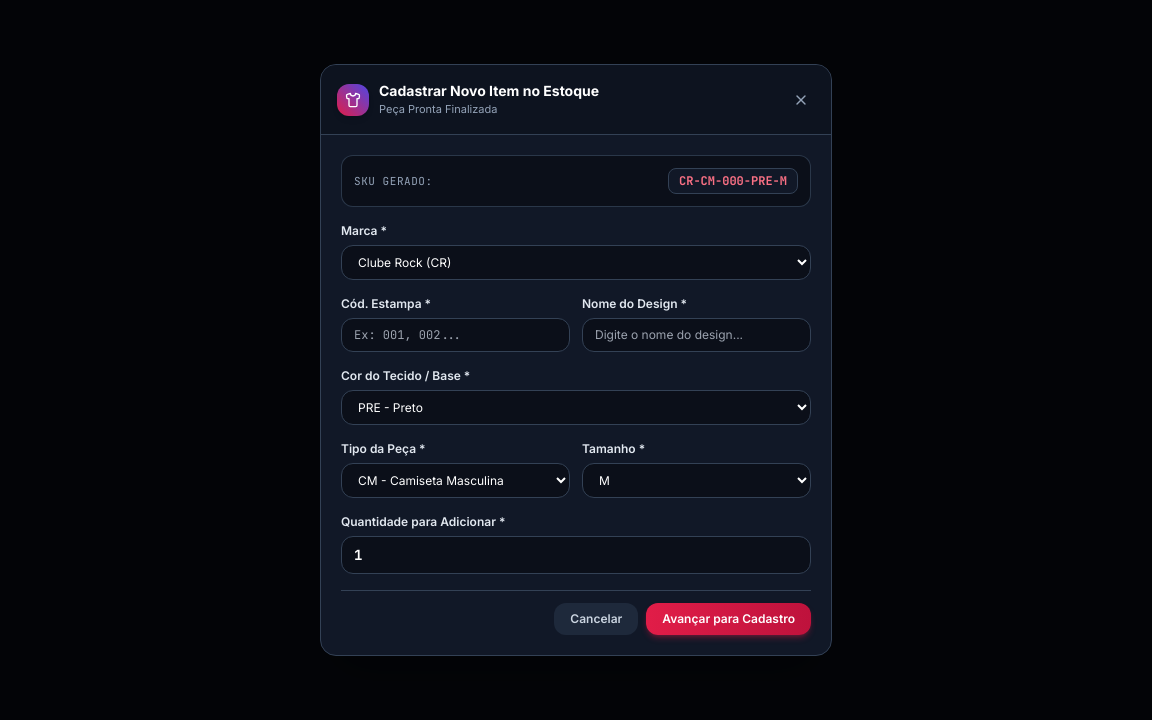
Test: FormularioEstoqueModal Business Rules & Interaction Tests › RULE 1: When Cód. Estampa matches existing design, automatically populates Nome do Design, disables input, and shows Registrado Lock badge
// Type existing code "001"
Type "001" into the field with test id "input-codigo-estampa" at (456, 335), box [341,318,570,352]
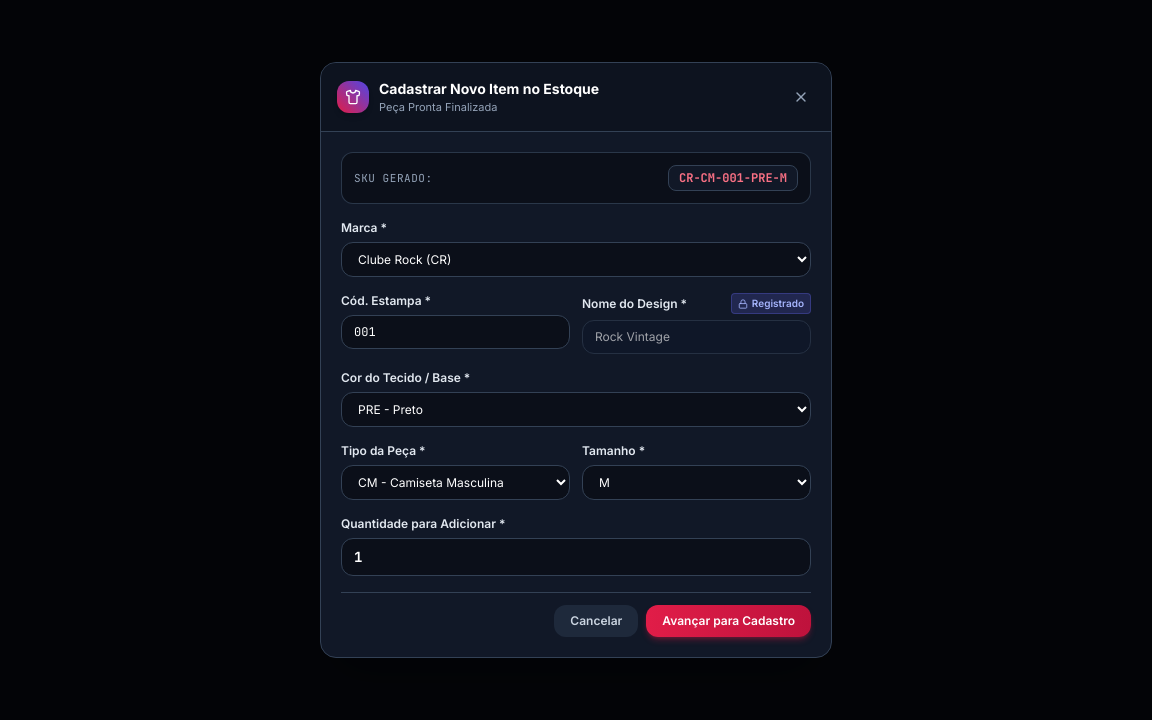
Check: the field with test id "input-nome-design" holds "Rock Vintage", box [582,320,811,354]
Check: the field with test id "input-nome-design" is disabled, box [582,320,811,354]
Check: the text "Registrado" is shown, box [731,293,811,314]
